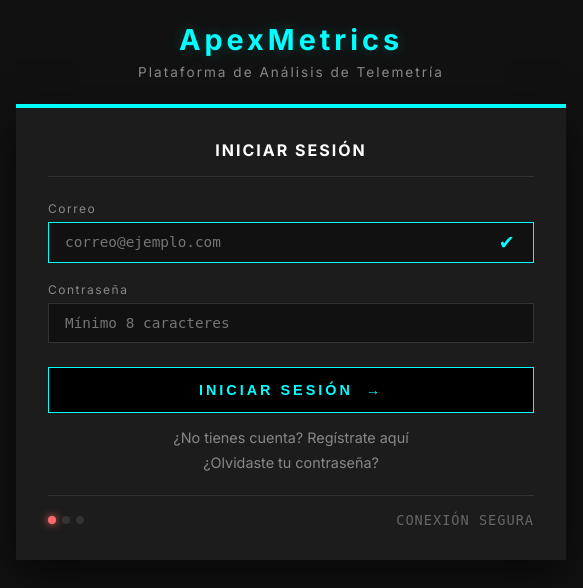
Test: Login — validaciones de formulario › muestra error si la contraseña tiene menos de 8 caracteres al enviar
The image size is (583, 588).
In the field with placeholder "correo@ejemplo.com": (291, 242) left=48, top=222, right=534, bottom=262, type "test@apex.sim"
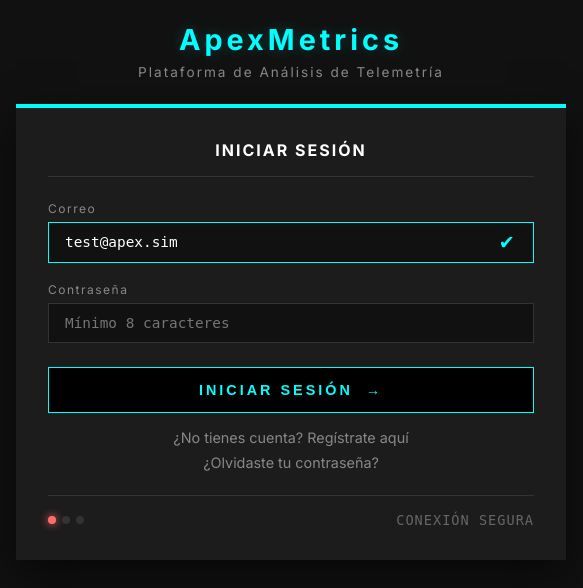
In the password field with placeholder "Mínimo 8 caracteres": (291, 323) left=48, top=303, right=534, bottom=344, type "corta"
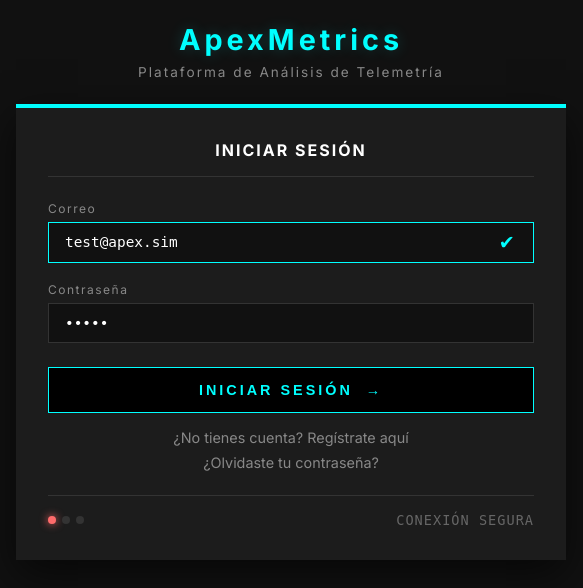
Click the button "INICIAR SESIÓN →": (291, 390) left=48, top=368, right=534, bottom=413
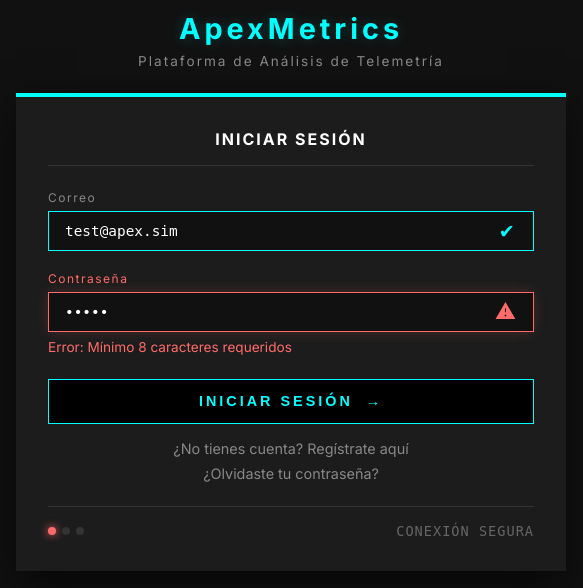
Result: the text "Error: Mínimo 8 caracteres requeridos" is shown at left=48, top=339, right=292, bottom=355
